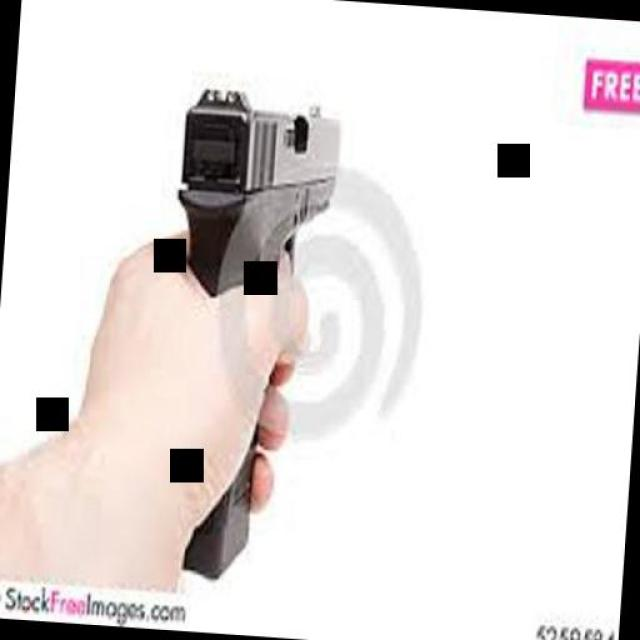gun: (145, 72, 340, 594)
